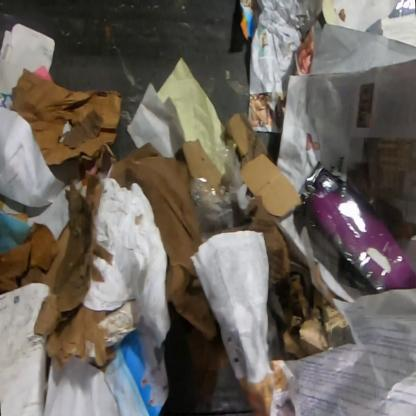cardboard: (18, 170, 116, 372), (293, 153, 415, 297), (9, 68, 124, 166), (224, 196, 291, 290), (282, 279, 356, 359), (0, 223, 60, 295), (0, 22, 56, 96), (242, 153, 301, 221), (224, 112, 276, 166), (180, 139, 220, 194), (12, 211, 30, 223)
soft_plastic: (189, 136, 255, 245), (387, 0, 416, 19)
